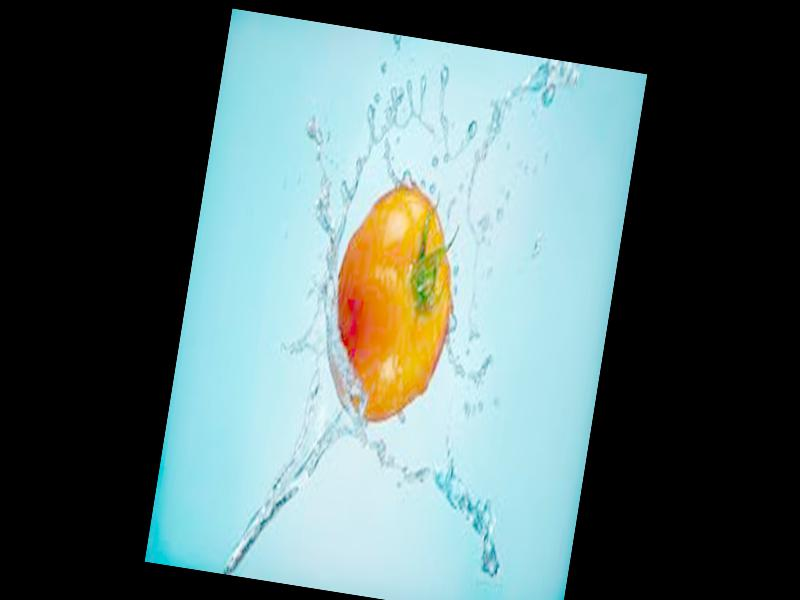Tomato: (314, 175, 468, 431)
